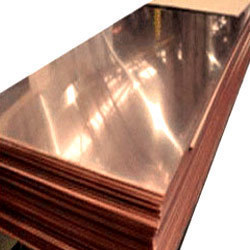norust: (1, 1, 250, 250)
